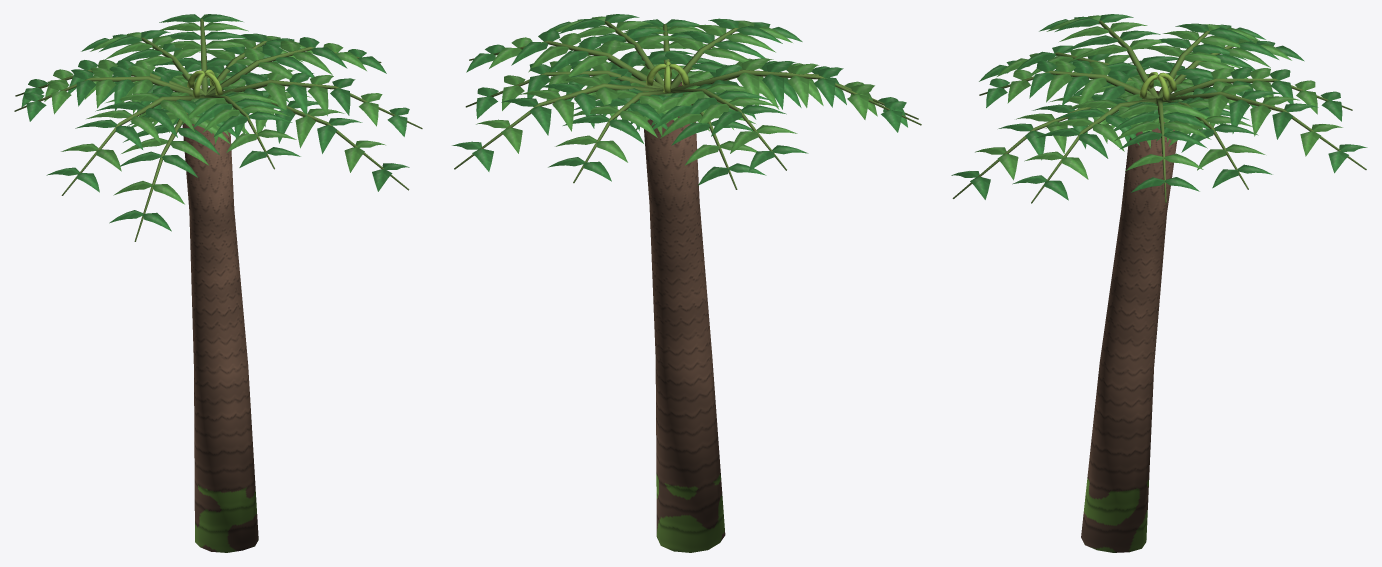
Rendered from tree_fern_b.glb.
3 renders of one model, left to right at view 1: azimuth 30°, elevation 25°; view 2: azimuth 150°, elevation 25°; view 3: azimuth 270°, elevation 25°, orthographic. The views are drawn at different scales.
Visible parts, largest first — view 1: Crown_leaf, Trunk; view 2: Crown_leaf, Trunk; view 3: Crown_leaf, Trunk.
Boxes of the visible parts, x1,y1,x2,y2 form: Crown_leaf: [14, 14, 422, 241]; Trunk: [182, 123, 258, 552]; Crown_leaf: [452, 14, 921, 189]; Trunk: [644, 81, 725, 552]; Crown_leaf: [951, 14, 1367, 203]; Trunk: [1081, 91, 1177, 552].
Bounding box in the file's own units: 2.27 × 2.68 × 2.16.
Materials: 1 (1 with a texture image).
